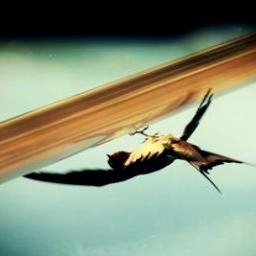Swallow: (17, 88, 256, 197)
